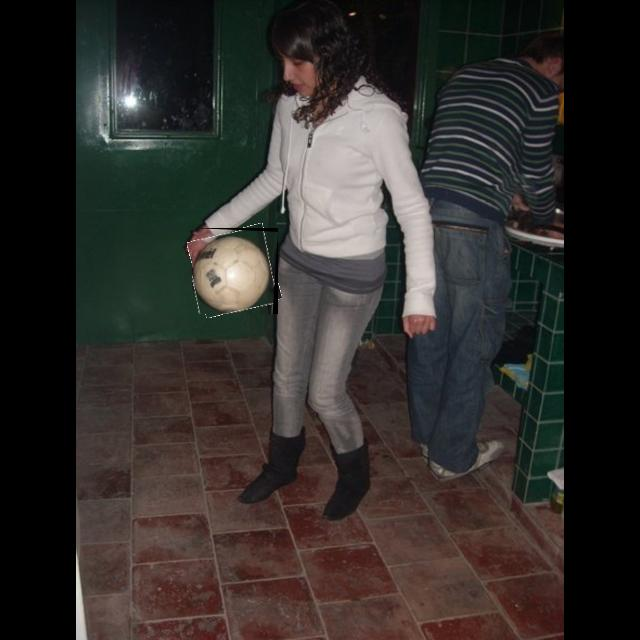Football: (192, 228, 278, 314)
